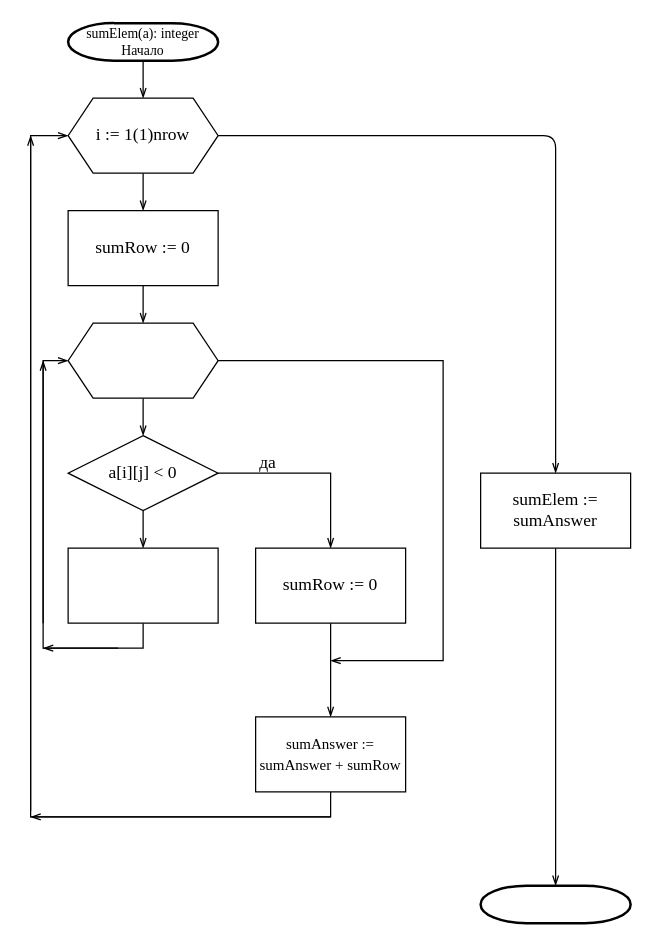
The diagram is 654 pixels wide and 945 high, and some of its shapes have lost their labels. Each missing label, with the centre of its shape:
"j := 1(1)ncol" goes at pixel 142 360.
"sumElem Конец" goes at pixel 555 904.
"sumRow := sumRow + a[i][j]" goes at pixel 142 585.
